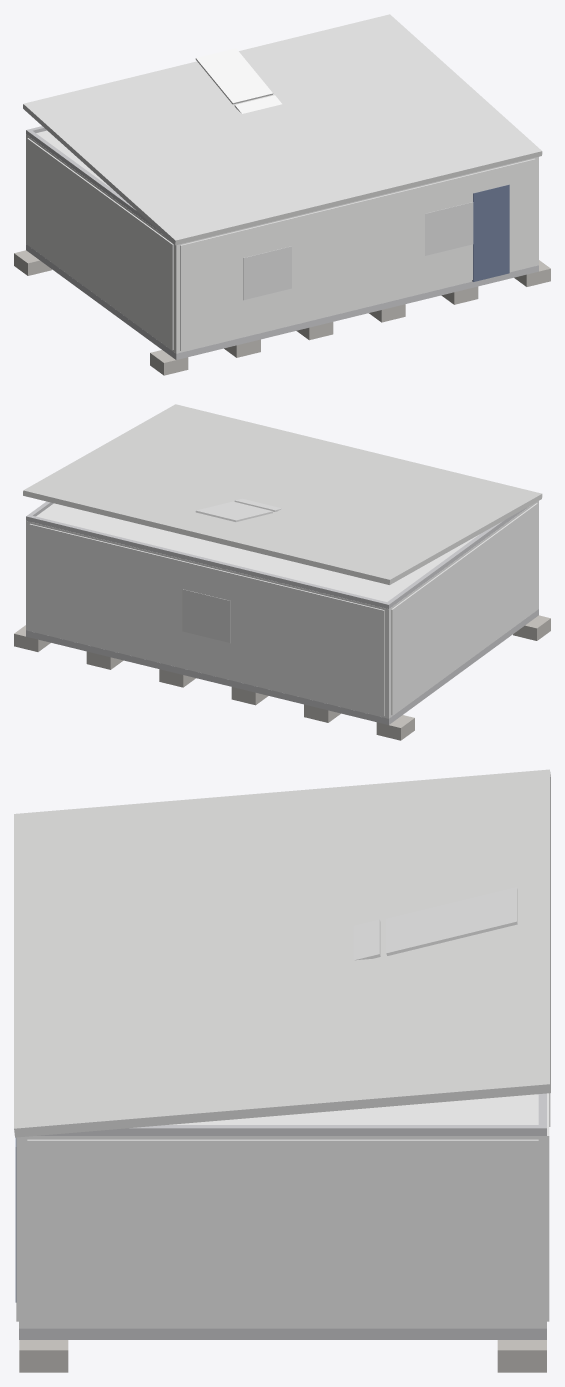
The model's file is Studio-30-SlopingRoof+FullSolar-LOD2.glb.
3 renders of one model, top to bottom at view 1: azimuth 30°, elevation 25°; view 2: azimuth 150°, elevation 25°; view 3: azimuth 270°, elevation 25°, orthographic. The views are drawn at different scales.
Parts seen in each view (by area): view 1: RoofSlopingUpgrade, ExteriorPanelsStandard, WindowsStandard, BaseFrame, FoundationBlocks, ExteriorShell, EntryDoor, SolarPanelArray, TopFrame, InteriorCeiling; view 2: ExteriorPanelsStandard, RoofSlopingUpgrade, InteriorCeiling, ExteriorShell, TopFrame, BaseFrame, FoundationBlocks, WindowsStandard, SolarPanelArray; view 3: RoofSlopingUpgrade, ExteriorPanelsStandard, ExteriorShell, BaseFrame, SolarPanelArray, InteriorCeiling, TopFrame, FoundationBlocks.
Part boxes in pixels (<box>): RoofSlopingUpgrade: <box>23,14,542,245</box>; ExteriorPanelsStandard: <box>27,138,535,350</box>; WindowsStandard: <box>243,202,473,300</box>; BaseFrame: <box>26,244,538,359</box>; FoundationBlocks: <box>14,250,550,375</box>; ExteriorShell: <box>26,134,538,353</box>; EntryDoor: <box>472,184,509,281</box>; SolarPanelArray: <box>195,48,281,113</box>; TopFrame: <box>26,126,161,233</box>; InteriorCeiling: <box>36,130,112,189</box>; ExteriorPanelsStandard: <box>29,503,537,715</box>; RoofSlopingUpgrade: <box>23,404,542,584</box>; InteriorCeiling: <box>36,503,479,601</box>; ExteriorShell: <box>26,501,538,718</box>; TopFrame: <box>26,501,528,608</box>; BaseFrame: <box>26,609,538,724</box>; FoundationBlocks: <box>14,615,550,740</box>; WindowsStandard: <box>182,589,230,643</box>; SolarPanelArray: <box>195,498,281,521</box>; RoofSlopingUpgrade: <box>14,769,550,1137</box>; ExteriorPanelsStandard: <box>16,1093,549,1325</box>; ExteriorShell: <box>19,1136,546,1328</box>; BaseFrame: <box>19,1328,546,1339</box>; SolarPanelArray: <box>353,887,517,960</box>; InteriorCeiling: <box>169,1094,538,1124</box>; TopFrame: <box>37,1093,546,1135</box>; FoundationBlocks: <box>19,1340,546,1372</box>.
Bounding box in the file's own units: 9.6 × 4.07 × 6.56.
